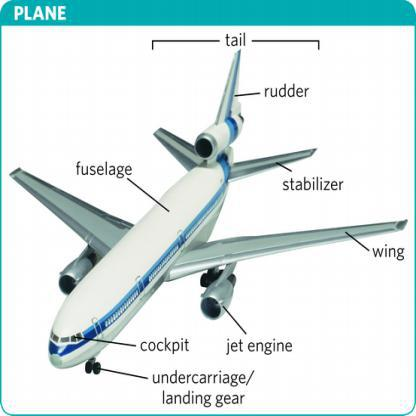CIV_Plane: (4, 48, 408, 374)
